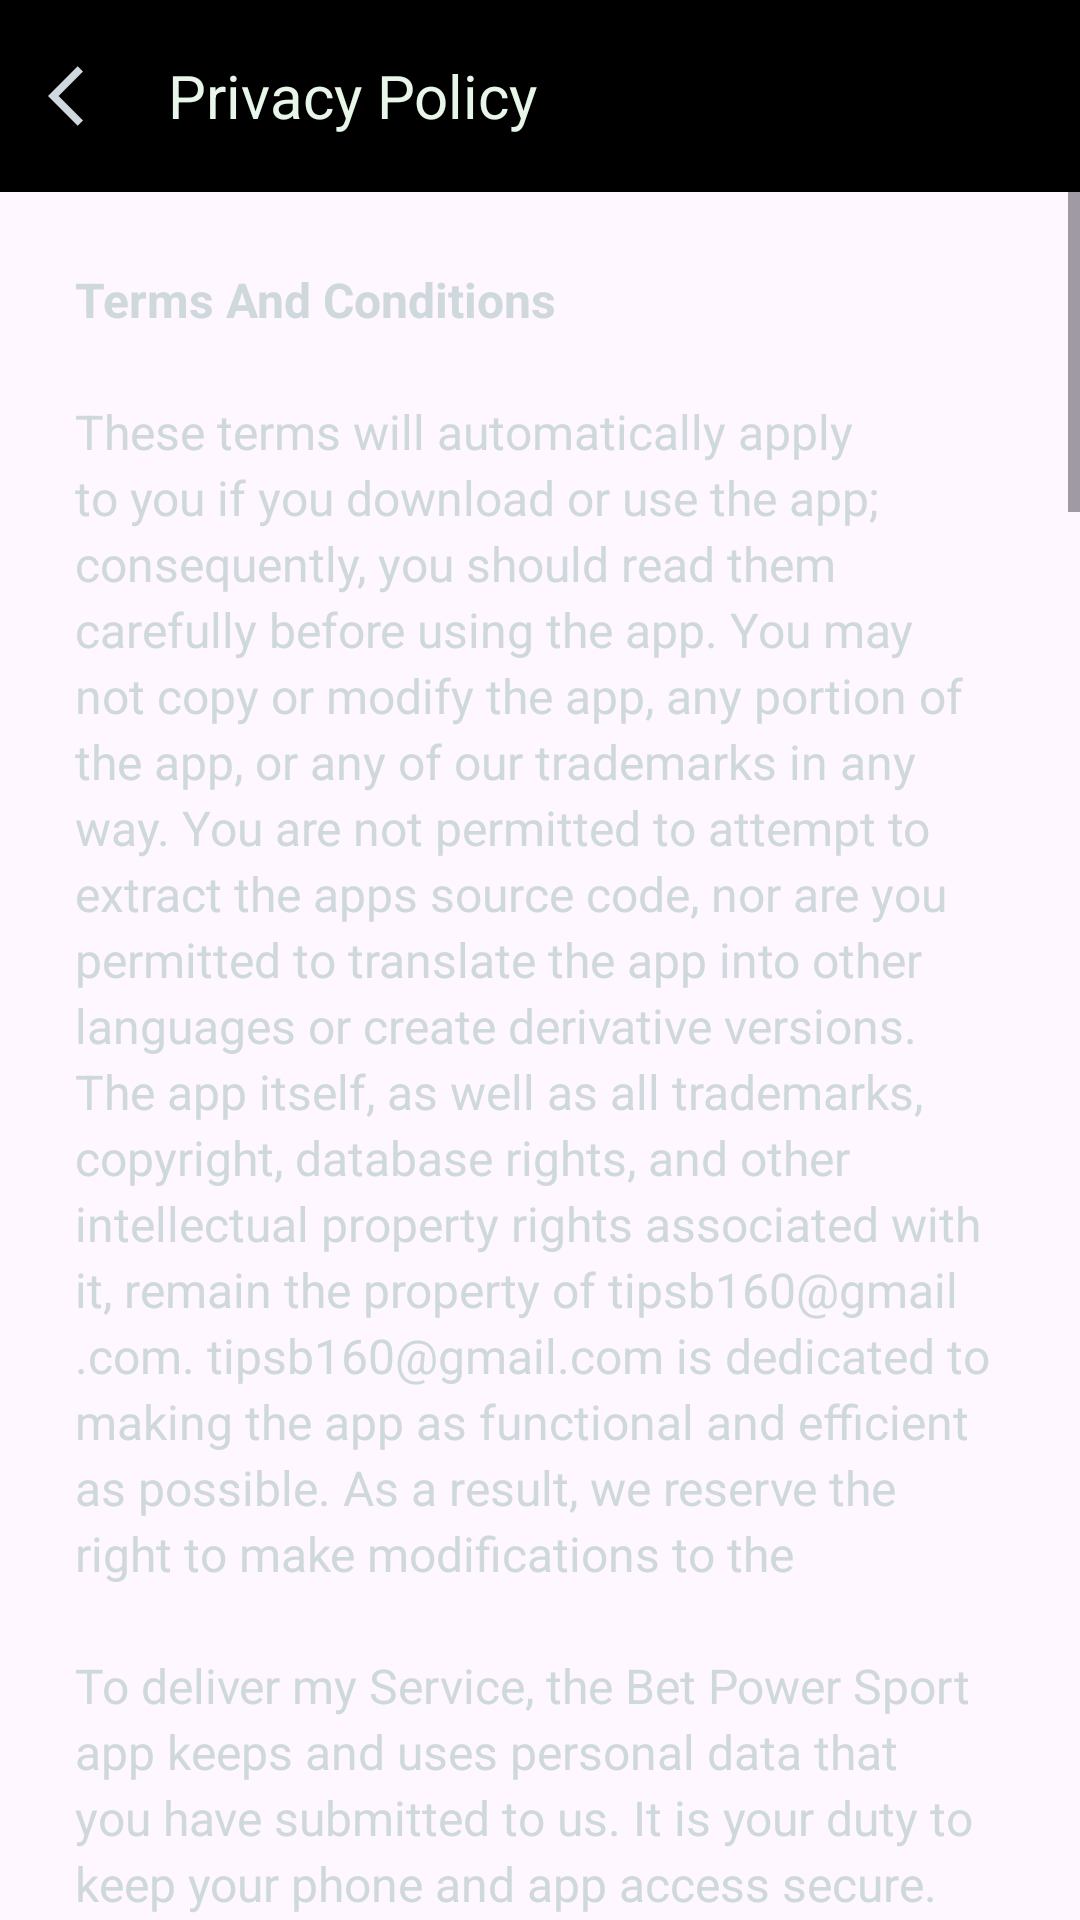

Icon click points for this 1080×1920 phone screenshot, format point (x, y):
arrow back: point (65, 96)
